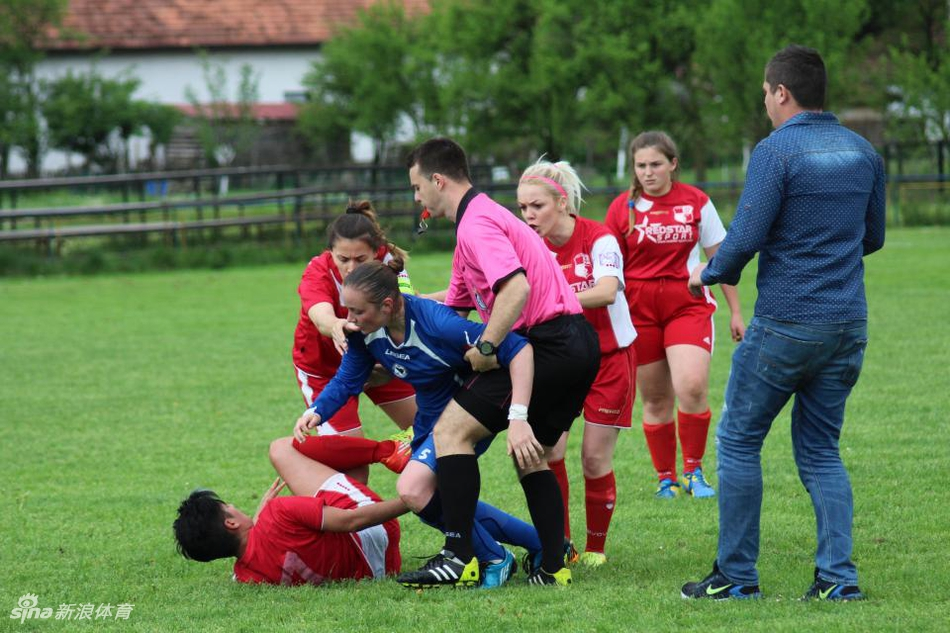fall: (161, 412, 481, 599)
